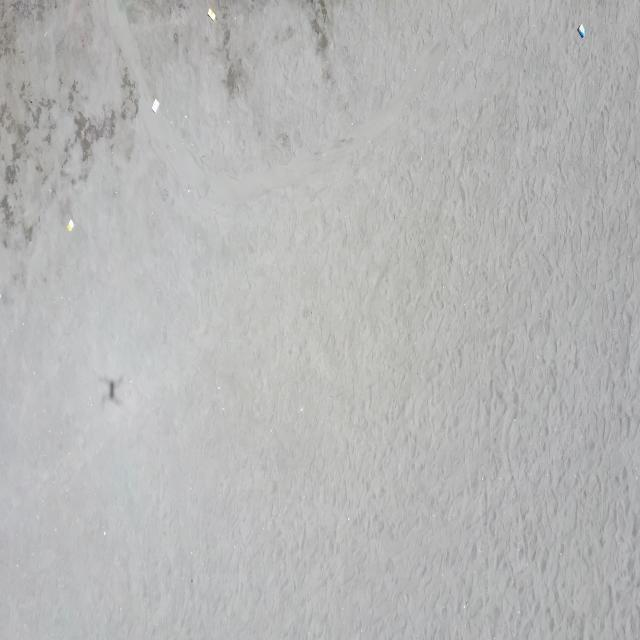Garbage: (65, 219, 74, 231), (576, 24, 584, 36), (207, 8, 215, 20), (151, 100, 158, 111)
